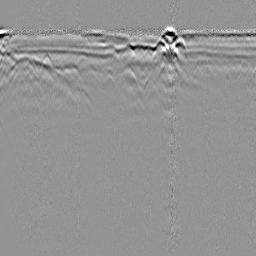cavity: (115, 66, 139, 88)
